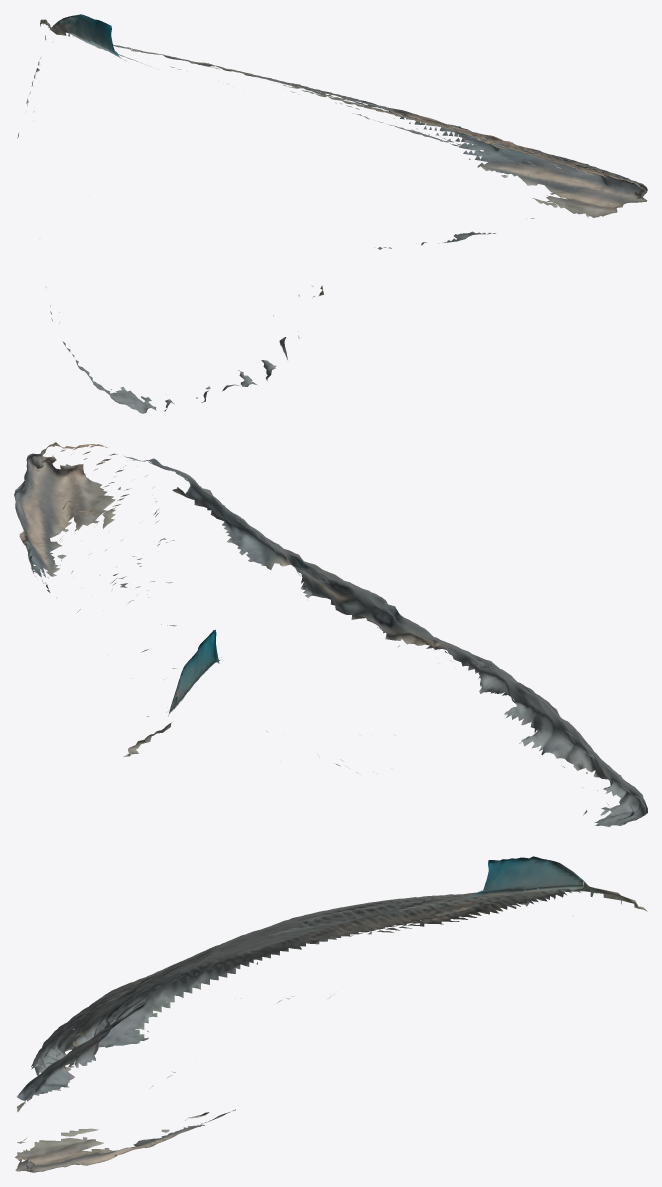
The model's file is collider.glb.
3 renders of one model, top to bottom at view 1: azimuth 30°, elevation 25°; view 2: azimuth 150°, elevation 25°; view 3: azimuth 270°, elevation 25°, orthographic. The views are drawn at different scales.
Parts seen in each view (by area): view 1: world; view 2: world; view 3: world.
Part boxes in pixels (x1=…): world: x1=17, y1=14, x2=647, y2=413; world: x1=14, y1=442, x2=647, y2=827; world: x1=15, y1=856, x2=647, y2=1172.
Size of the model in its own units: 206 by 87.78 by 192.
